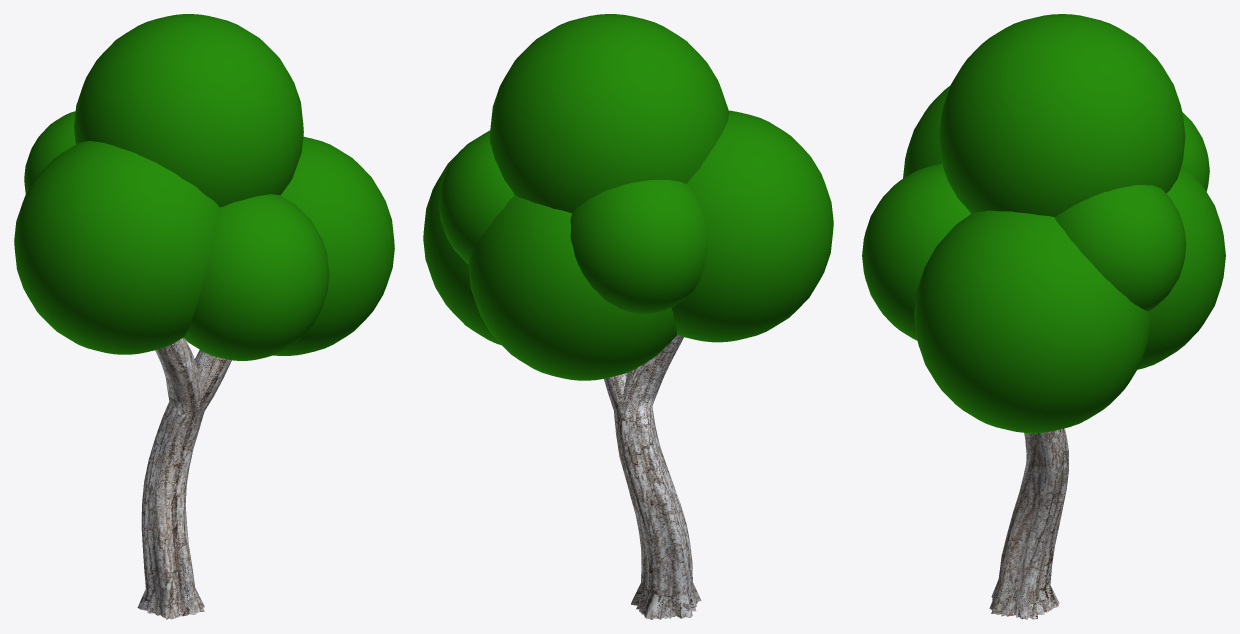
File: tree_a.dae
3 views of the same model, side by side, from view 1: azimuth 30°, elevation 25°; view 2: azimuth 150°, elevation 25°; view 3: azimuth 270°, elevation 25° (orthographic). The views are drawn at different scales.
Parts seen in each view (by area): view 1: Sphere, tree.001; view 2: Sphere, tree.001; view 3: Sphere, tree.001.
Part boxes in pixels (<box>): Sphere: <box>14,14,394,360</box>; tree.001: <box>137,338,231,619</box>; Sphere: <box>423,14,833,380</box>; tree.001: <box>604,335,701,619</box>; Sphere: <box>862,14,1225,433</box>; tree.001: <box>989,428,1068,619</box>.
Size of the model in its own units: 9.94 by 8.2 by 14.86.
